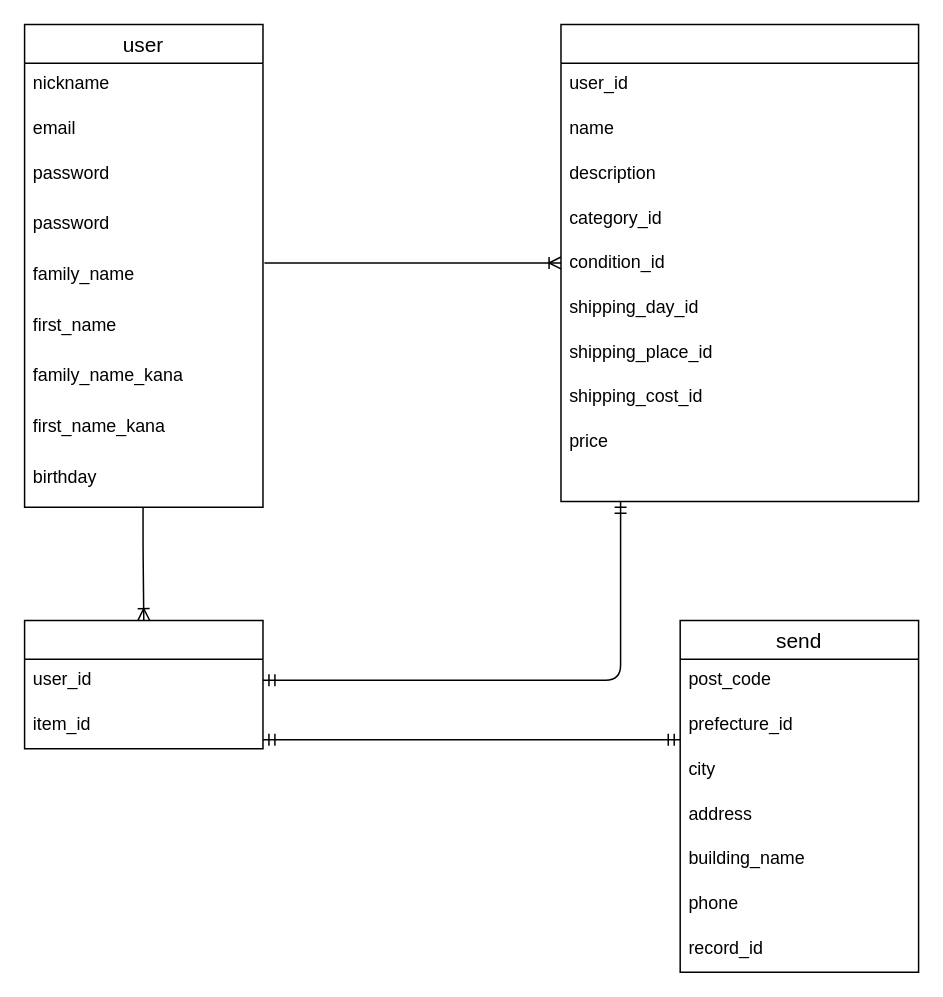
Some shapes in this 943 by 997 pixel diagram are drawn without their labels. The box of each missing label's shape, as (x1, y1, x2, y2) in pixels:
items: (559, 23, 919, 501)
record: (23, 619, 263, 749)
